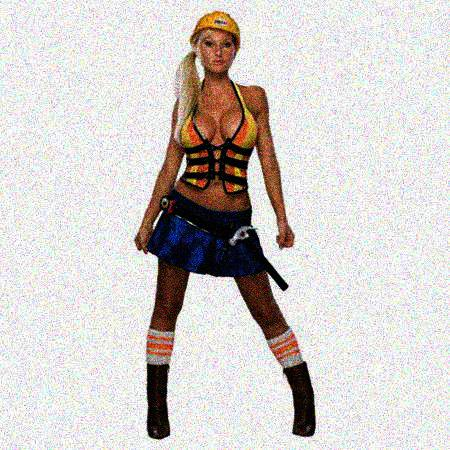helmet: (190, 8, 243, 74)
